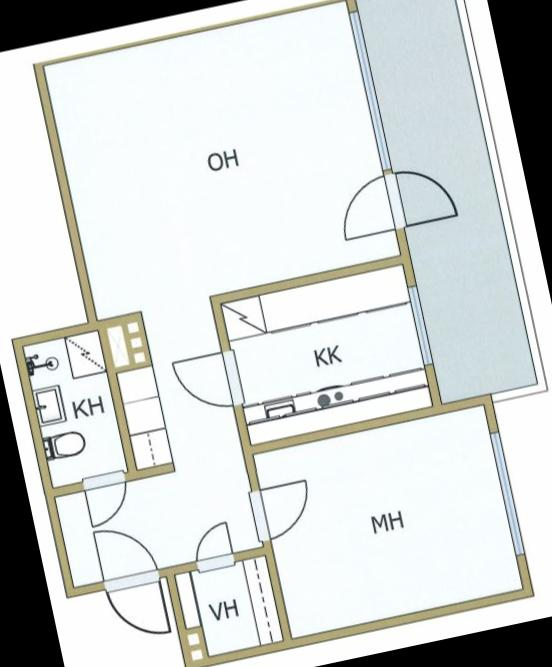door: (381, 156, 464, 233), (168, 344, 248, 418), (89, 516, 164, 594), (102, 567, 175, 643), (331, 170, 406, 243), (244, 478, 321, 544), (79, 468, 134, 528), (182, 516, 240, 572)
window: (342, 3, 398, 177), (484, 424, 530, 562), (402, 276, 438, 372)
